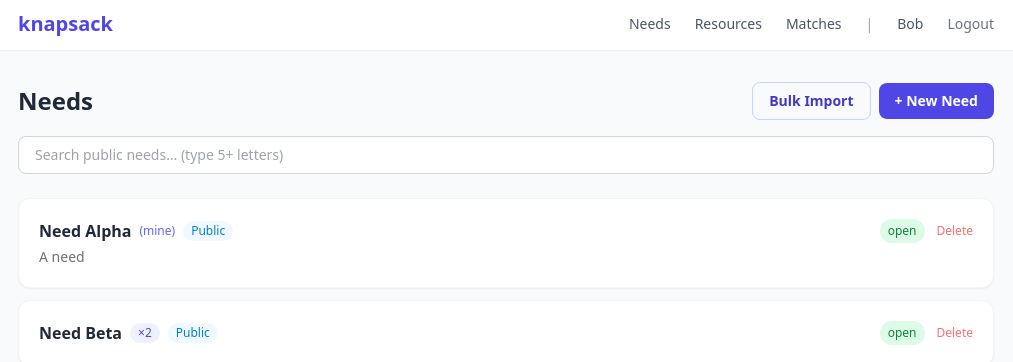
Test: NeedsPage › shows "No matches found" when search returns empty
Type "zzzzz" into the field with placeholder "Search public needs… (type 5+ letters)" at (506, 155), box [18,136,994,174]
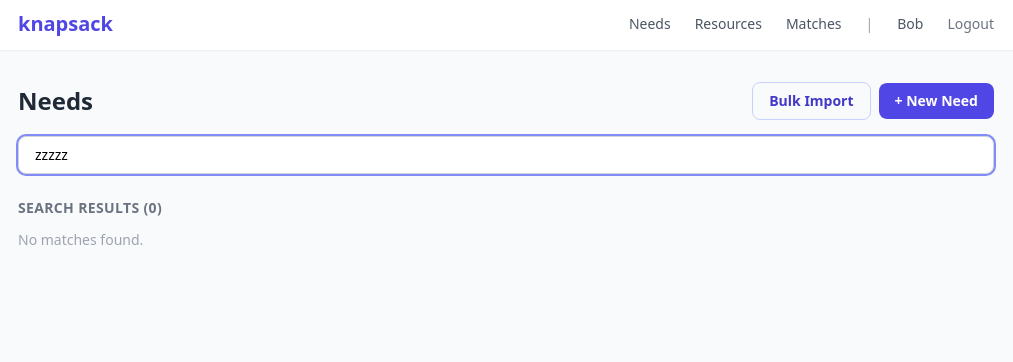
Check: the text "No matches found." is shown, box [18,230,143,249]
